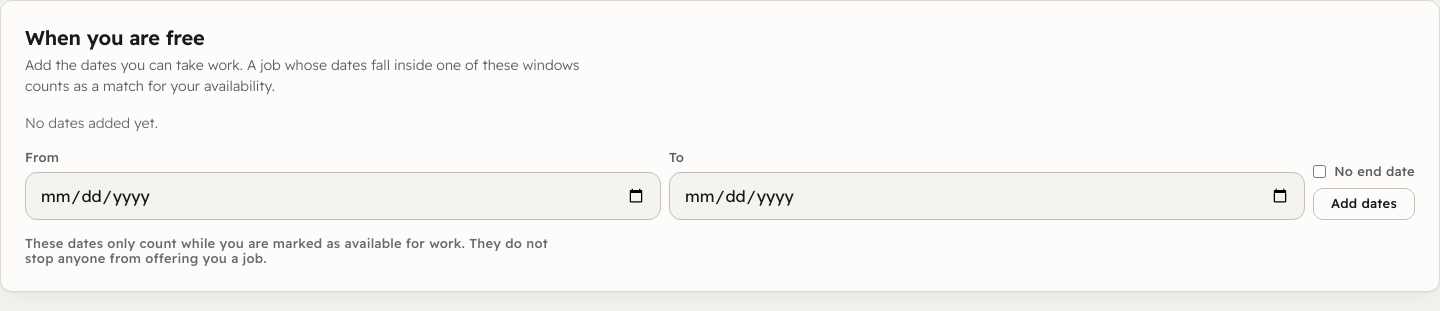
Test case: AvailabilityWindows — when you are free › 'No end date' makes the window open-ended and takes the end date out of the form
This screenshot has width=1440, height=311.
Expected: the date field labelled "To" is enabled, [669,172,1305,220]
Click the checkbox labelled "No end date". click: click(1320, 172)
box: [1313,165,1326,178]
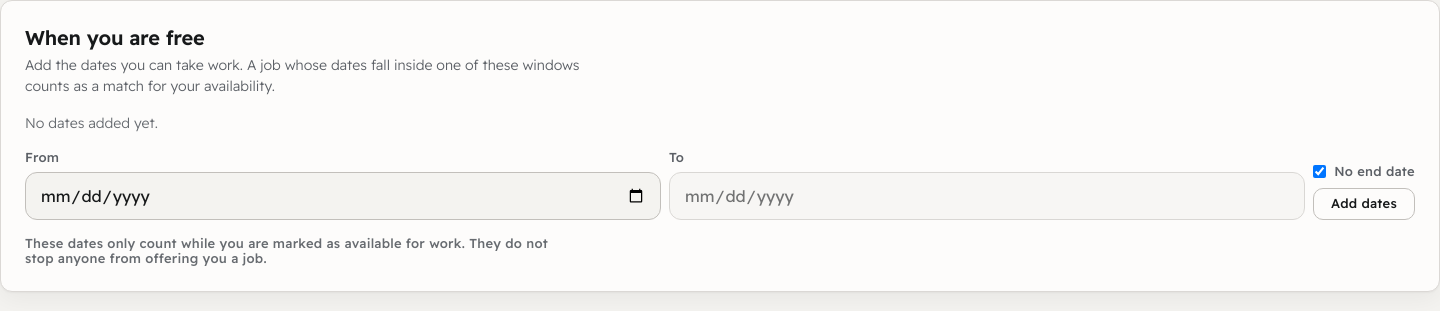
Expected: the date field labelled "To" is disabled, [669,172,1305,220]
